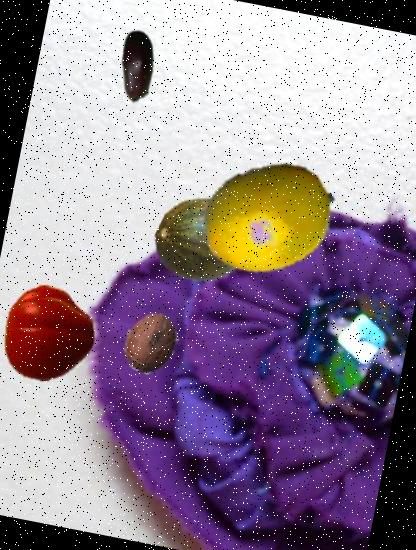Cocos: (113, 306, 188, 380)
Eggplant: (94, 22, 181, 109)
Maracuja: (190, 139, 346, 295)
Melon: (148, 186, 256, 294)
Tomato: (0, 276, 105, 389)
